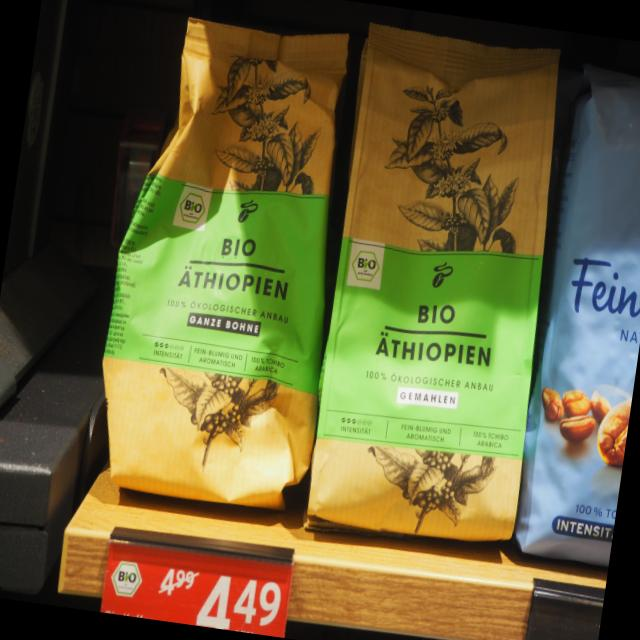Athiopien Bohne: (77, 0, 371, 525)
Athiopien Gemahlen: (296, 7, 565, 551)
